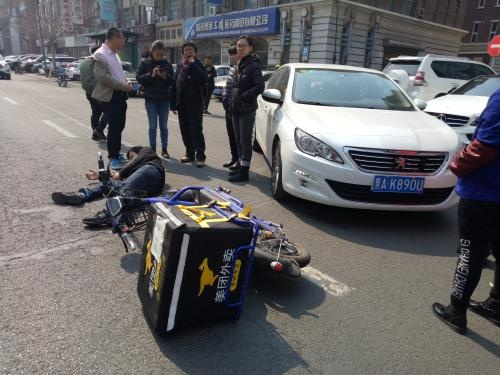falling: (49, 139, 177, 232)
